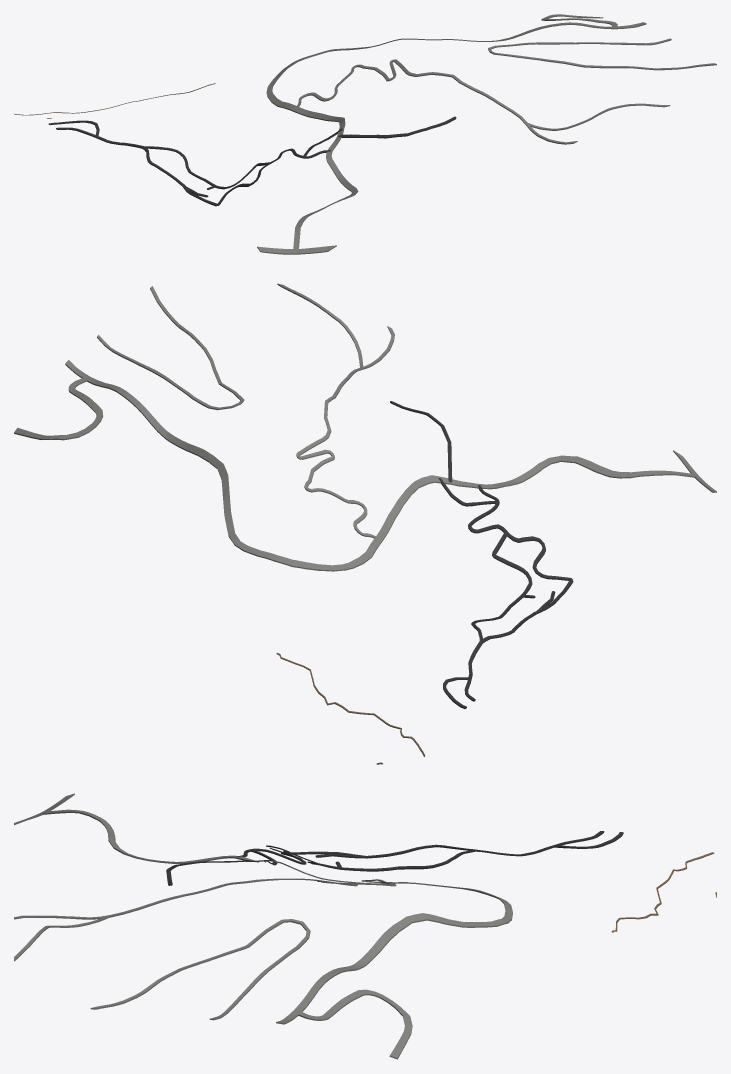
3 views of the same model, one above another, from view 1: azimuth 30°, elevation 25°; view 2: azimuth 150°, elevation 25°; view 3: azimuth 270°, elevation 25° (orthographic). The views are drawn at different scales.
Size of the model in its own units: 587 by 152 by 583.
